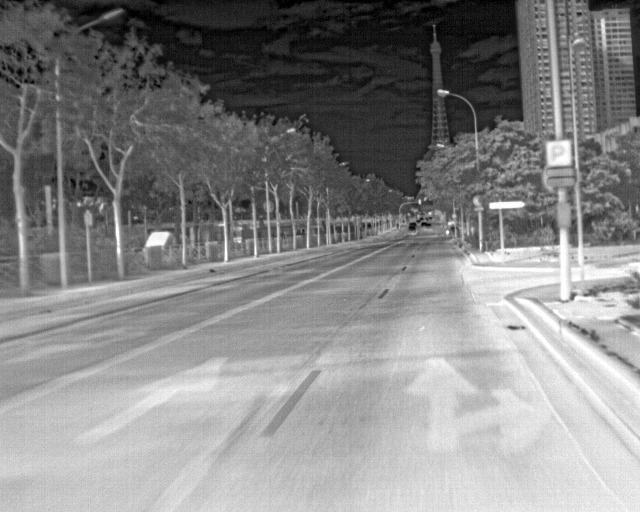car: (408, 225, 418, 234), (423, 222, 432, 231), (420, 221, 427, 229), (409, 222, 417, 228), (416, 219, 421, 225), (420, 217, 424, 222), (429, 216, 433, 220), (424, 217, 428, 221)
light: (418, 198, 422, 205)
sign: (545, 140, 573, 167), (557, 203, 571, 228), (546, 176, 575, 188), (546, 166, 575, 178), (489, 201, 525, 208), (83, 209, 94, 227), (262, 200, 275, 213), (472, 195, 485, 207), (474, 207, 484, 211), (452, 214, 457, 218), (423, 197, 427, 201)
